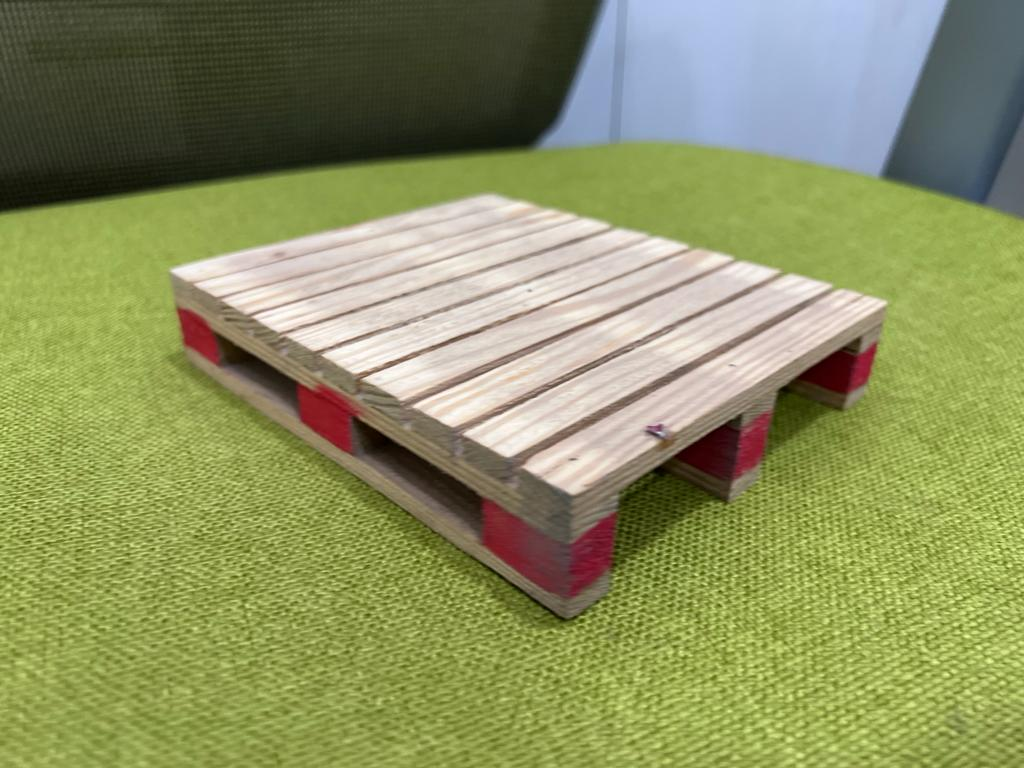pallet: (120, 185, 912, 628)
